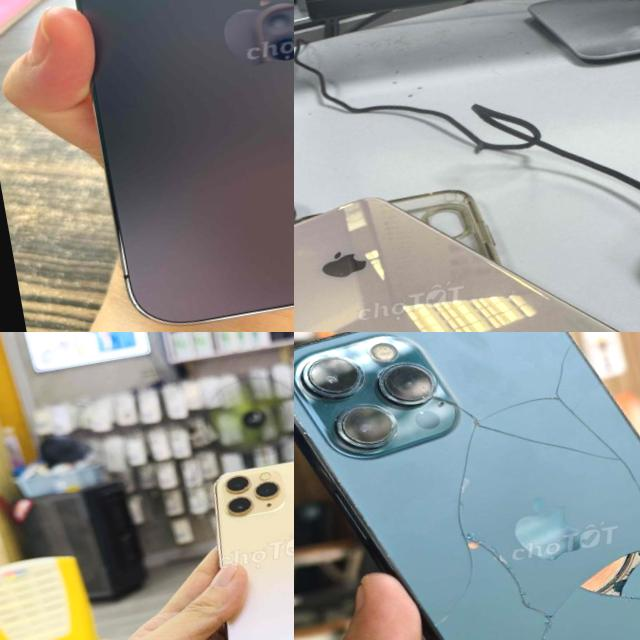physical_damage: (394, 332, 640, 640)
